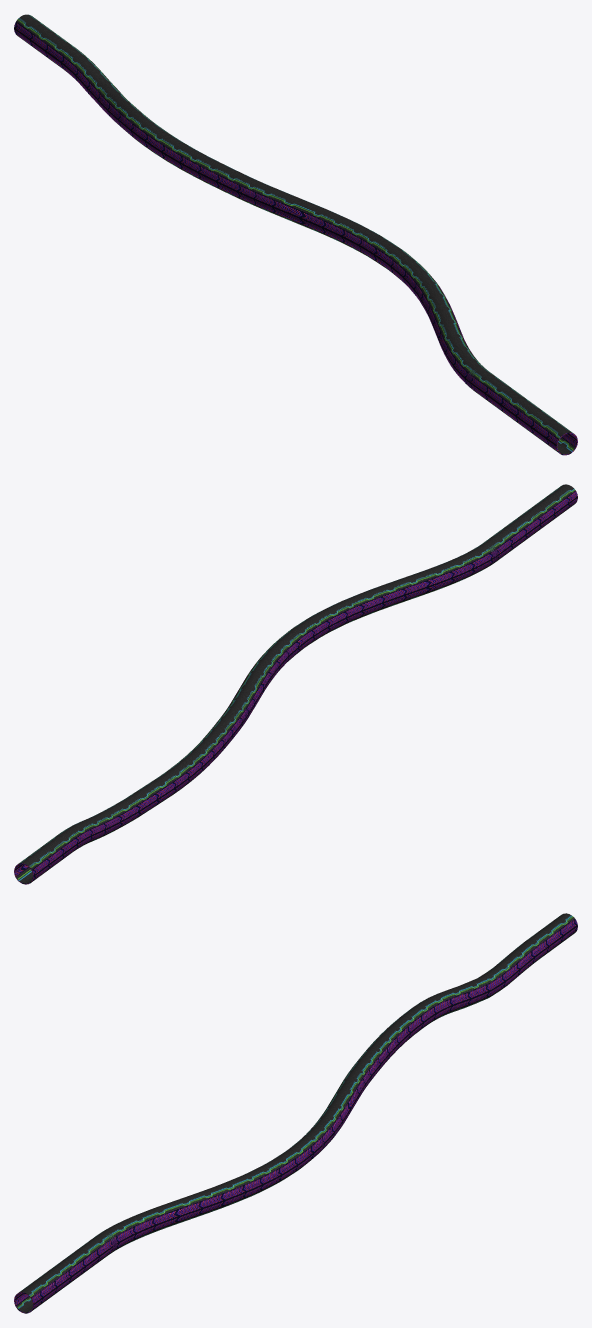
Rendered from Cylendrical_Ramp.FBX.
3 views of the same model, one above another, from view 1: azimuth 30°, elevation 25°; view 2: azimuth 150°, elevation 25°; view 3: azimuth 330°, elevation 25° (orthographic). The views are drawn at different scales.
Visible parts, largest first — view 1: Line025; view 2: Line025; view 3: Line025.
Part boxes in pixels (x1,y1,x2,y2): Line025: (14, 14, 577, 455); Line025: (14, 484, 577, 884); Line025: (14, 913, 577, 1313).
Size of the model in its own units: 70.7 by 23.55 by 852.
